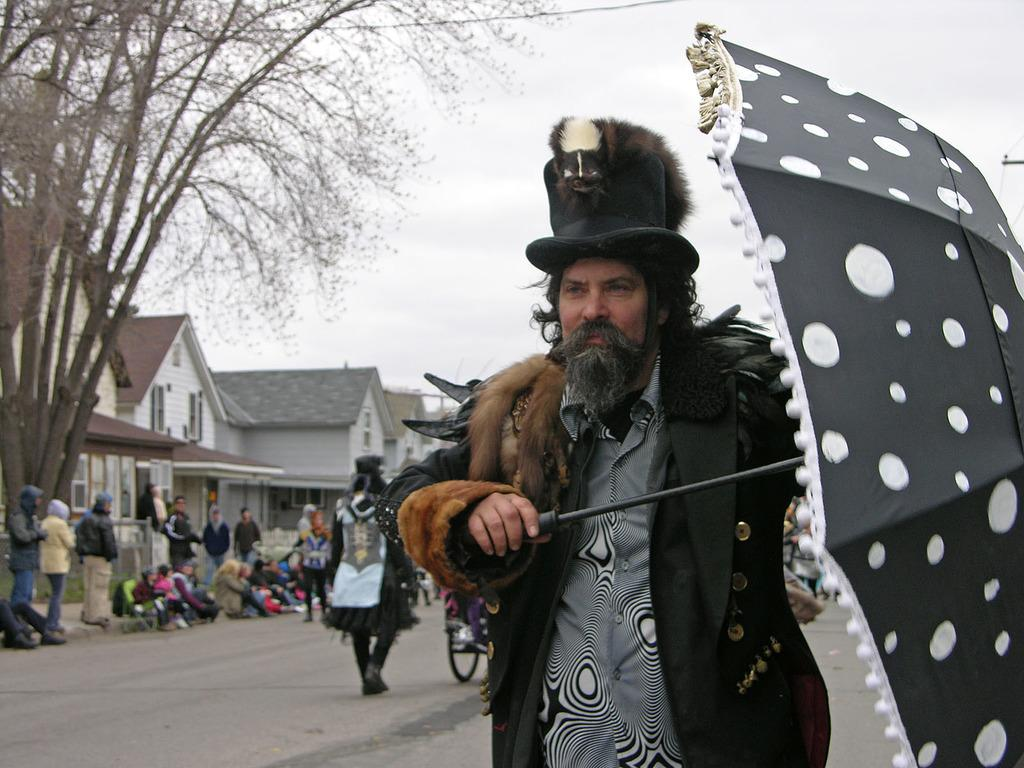Hat: (525, 107, 701, 278), (347, 452, 384, 481)
